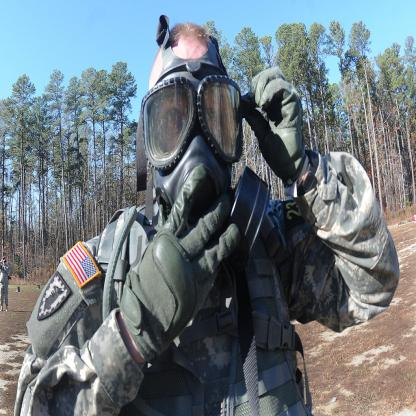Helmet: (140, 26, 251, 215)
